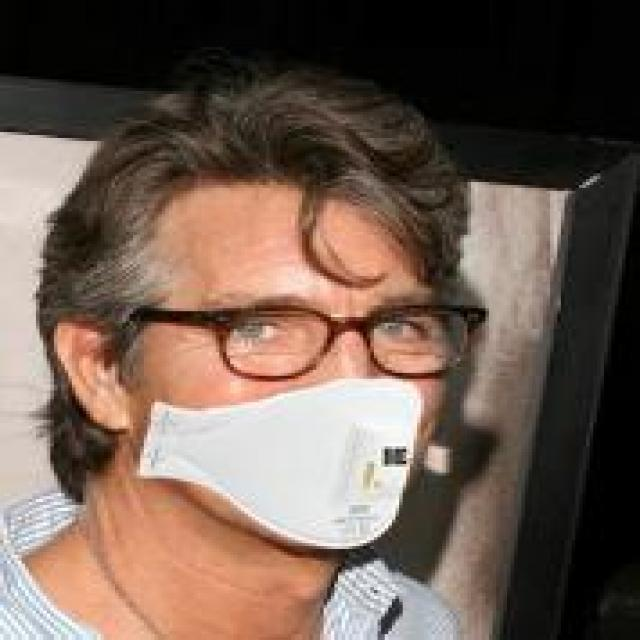mask: (76, 85, 510, 555)
